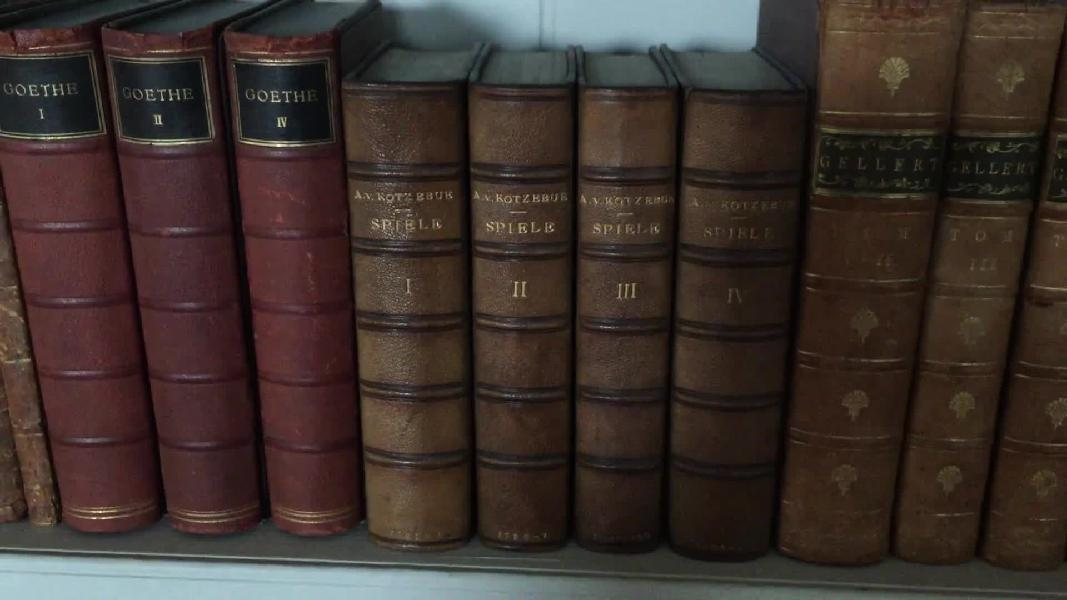Aa6-11_13: (5, 20, 365, 544)
Aa6-14_17: (343, 77, 811, 562)
